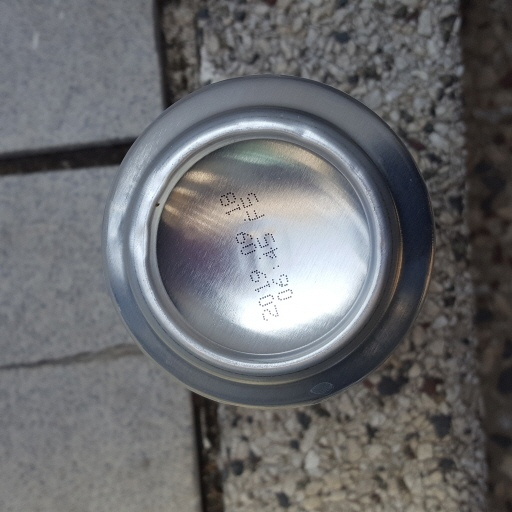Metal_0: (99, 75, 436, 410)
